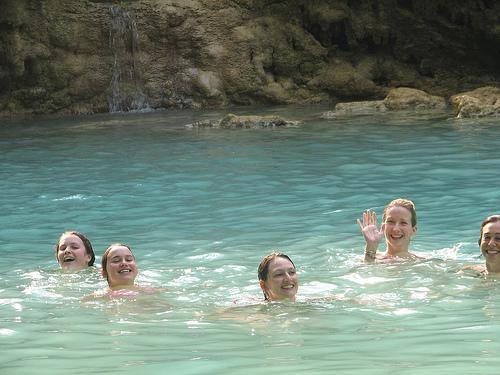swimmer: (355, 196, 418, 268), (90, 238, 150, 304), (250, 251, 299, 304), (50, 228, 98, 274), (477, 212, 500, 280)
